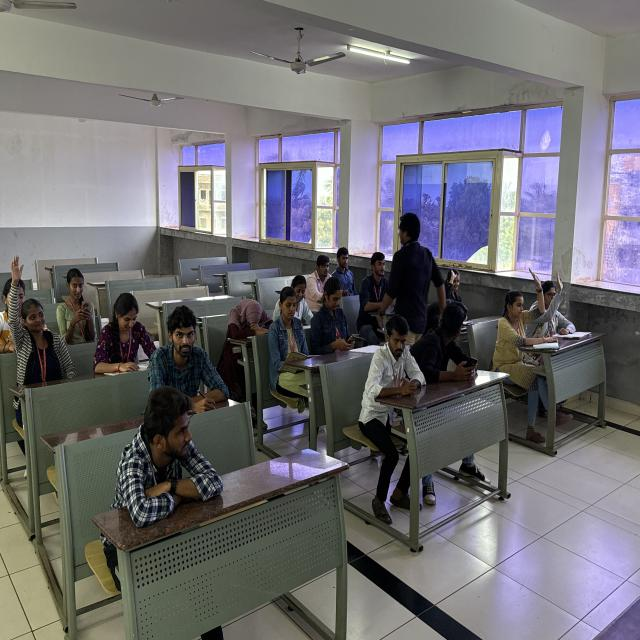Hand Rising: (7, 255, 76, 468), (492, 270, 571, 449), (526, 275, 577, 339)
Reading: (266, 283, 322, 380)
Sleeping: (212, 294, 268, 429)
Using Phone: (412, 300, 487, 386), (91, 291, 157, 375), (313, 275, 361, 360)
